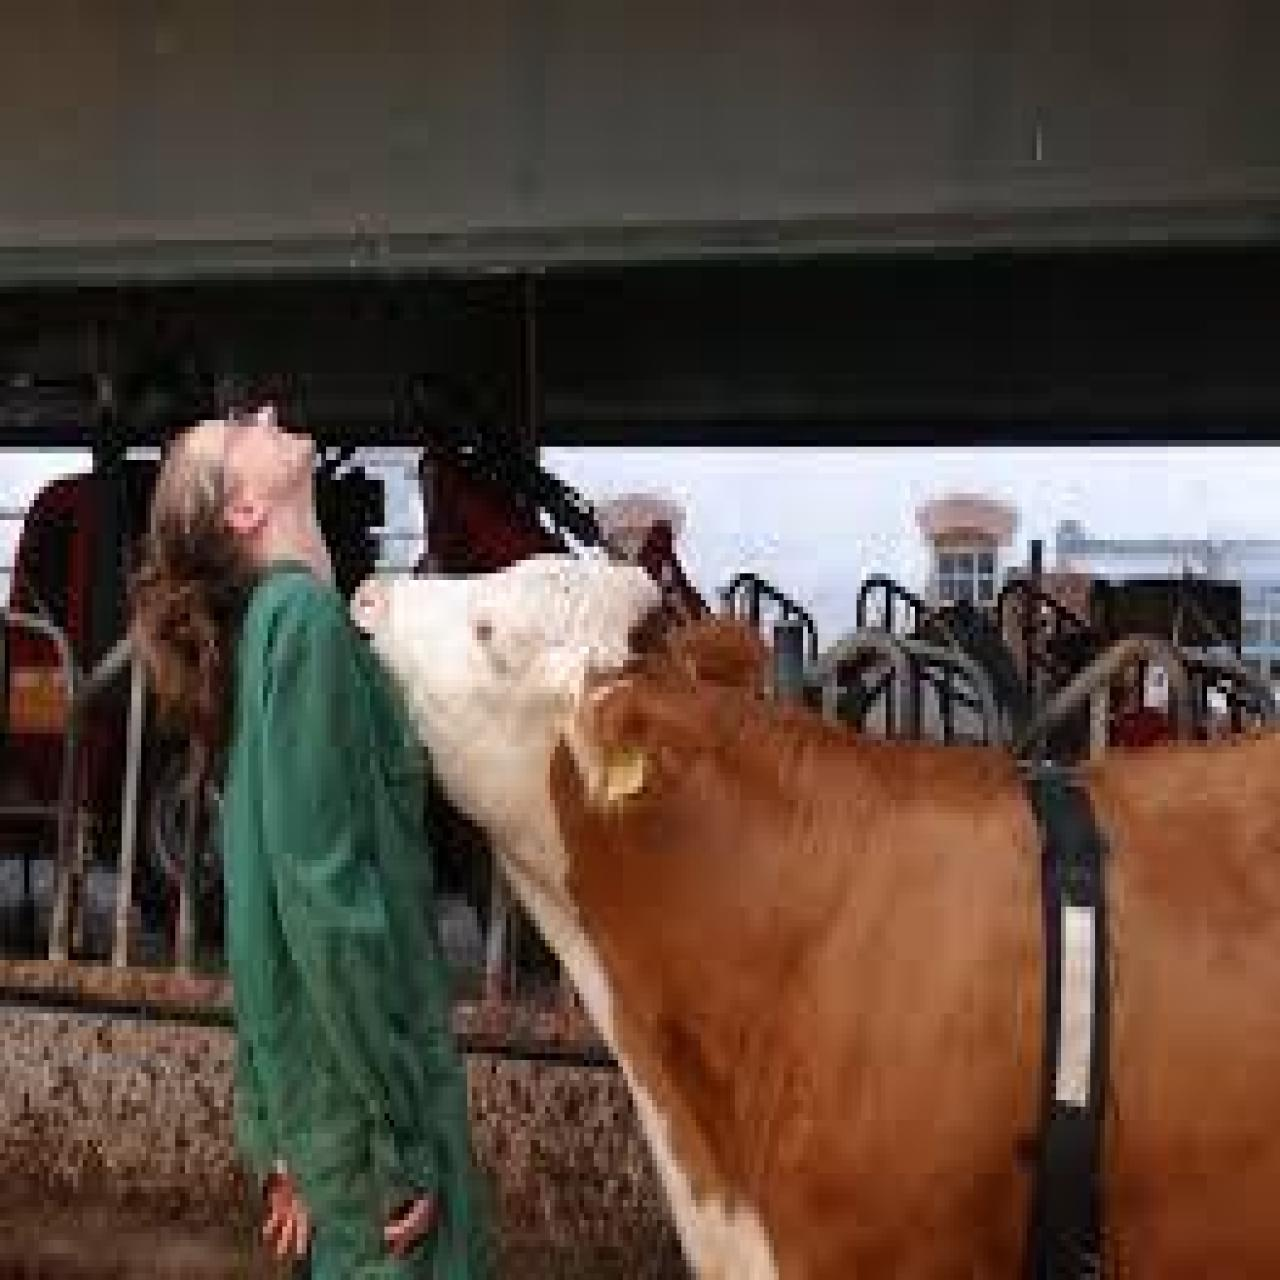cow: (350, 546, 1279, 1280)
